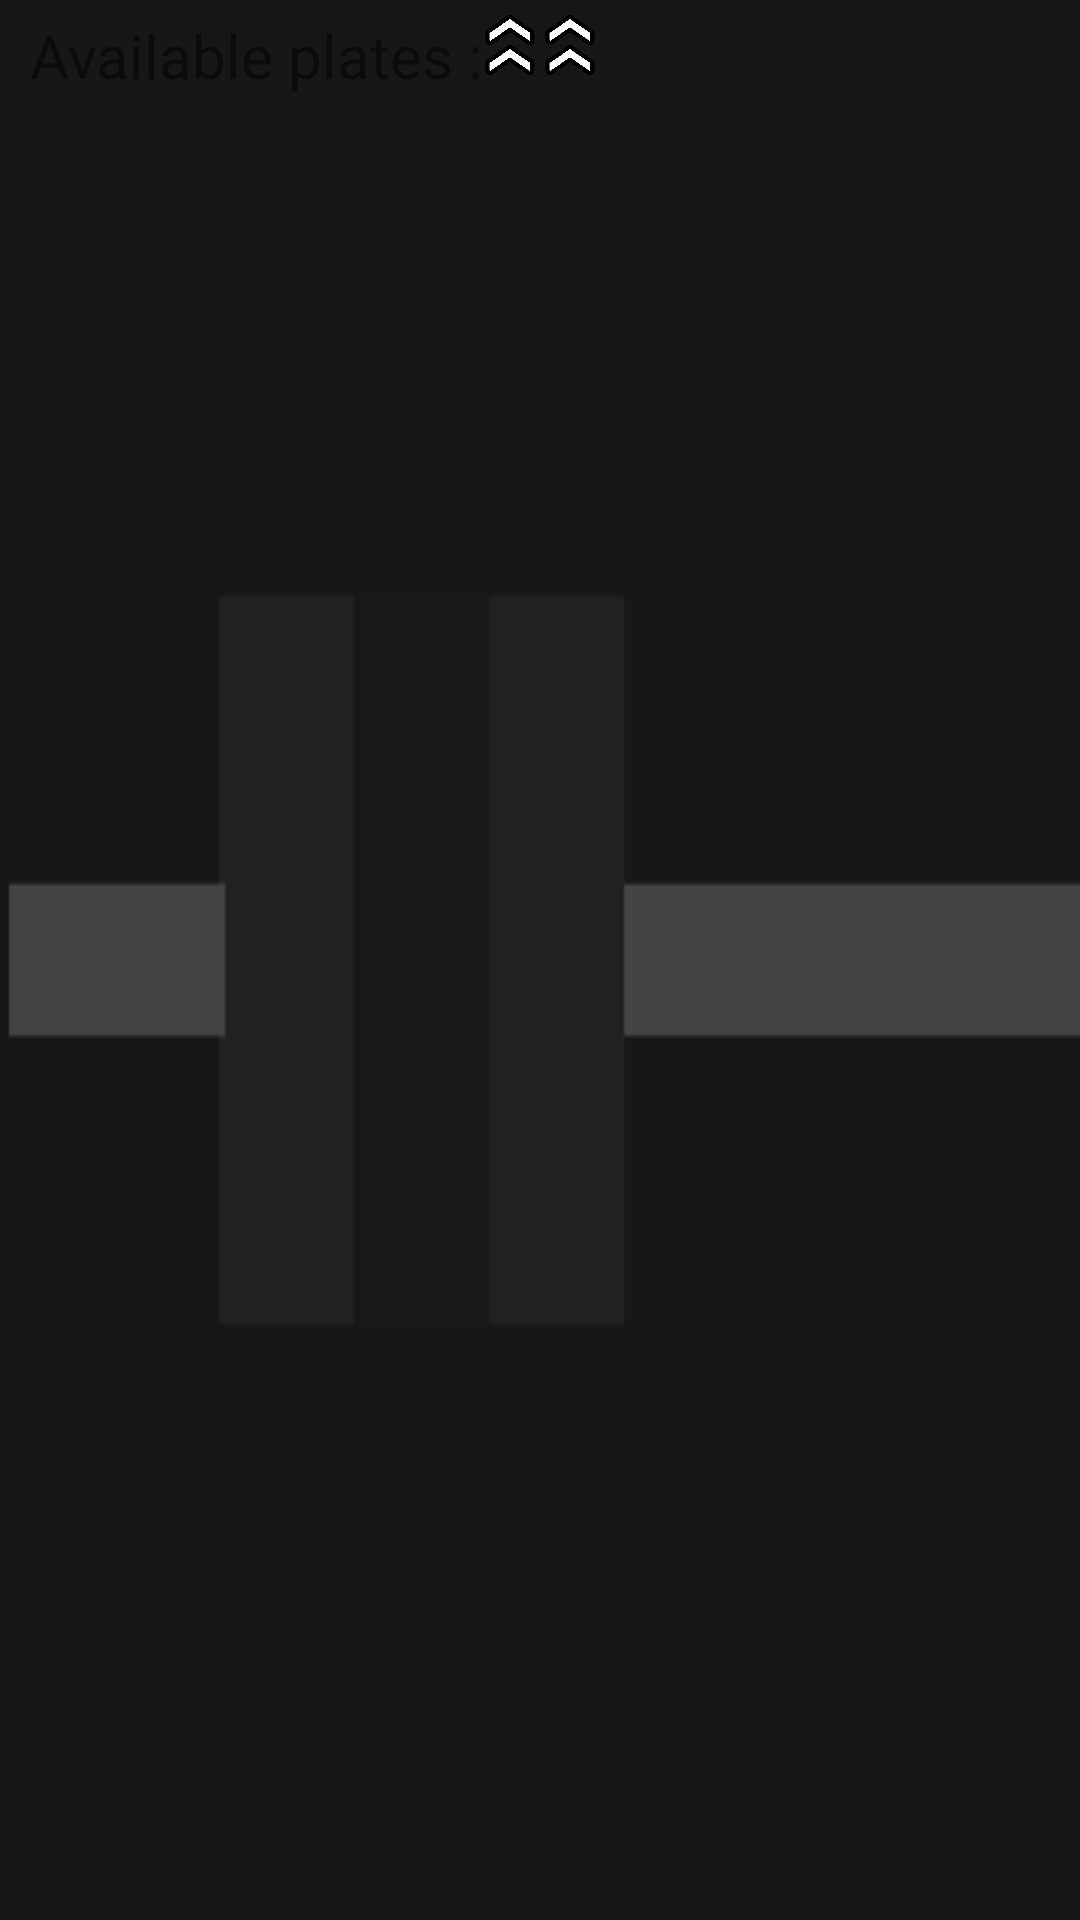

Named icons in this screenshot (1080×1920) and their bounding boxes, (x1, y1, x2, y2):
arrow up: (489, 19, 530, 71), (549, 19, 590, 71)
